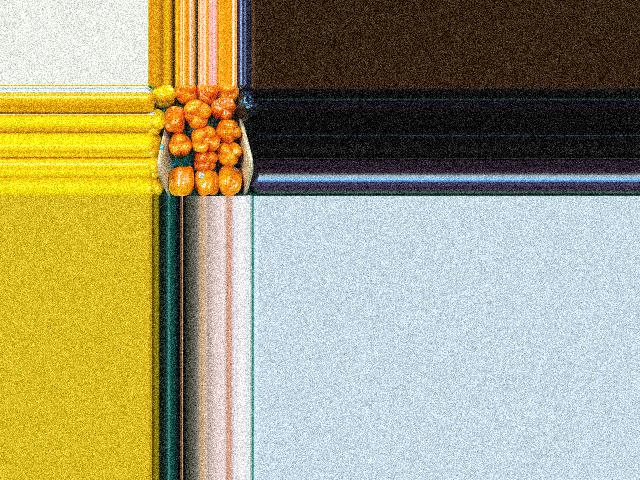bell_pepper: (150, 107, 164, 138)
